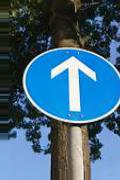forward: (20, 47, 120, 125)
